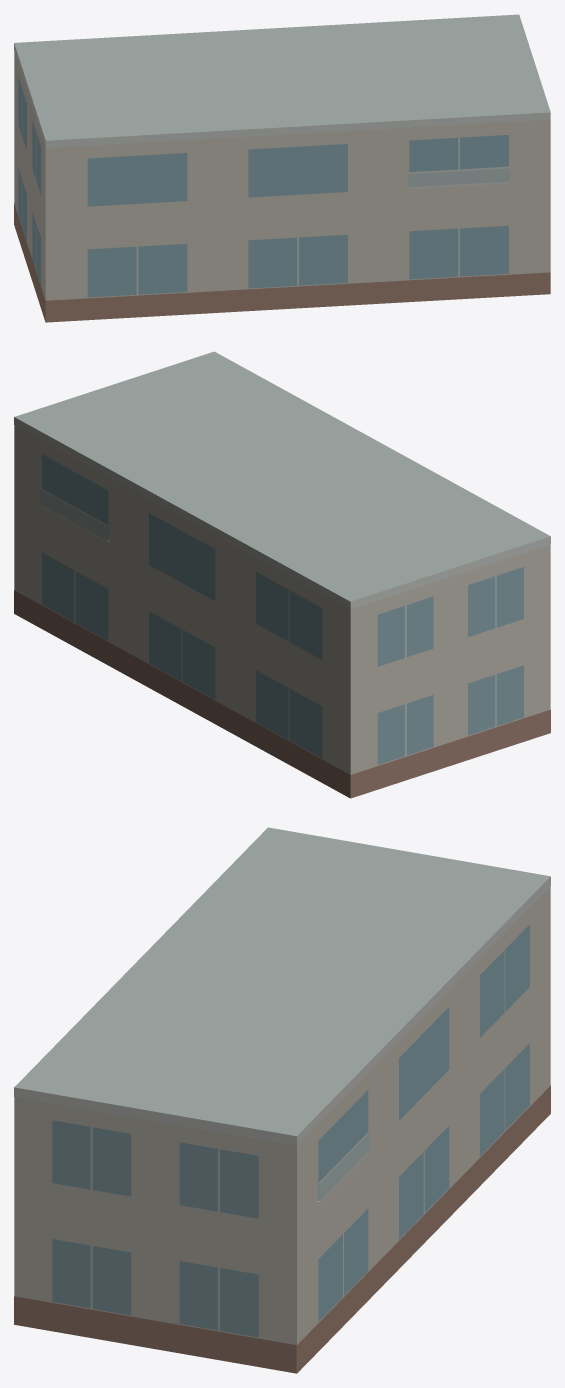
File: survey-upis-32720459.glb
3 renders of one model, top to bottom at view 1: azimuth 30°, elevation 25°; view 2: azimuth 150°, elevation 25°; view 3: azimuth 270°, elevation 25°, orthographic. The views are drawn at different scales.
Visible parts, largest first — view 1: survey-upis-32720459.tmp; view 2: survey-upis-32720459.tmp; view 3: survey-upis-32720459.tmp.
Boxes of the visible parts, x1=… form: survey-upis-32720459.tmp: x1=14, y1=14, x2=550, y2=322; survey-upis-32720459.tmp: x1=14, y1=351, x2=550, y2=798; survey-upis-32720459.tmp: x1=14, y1=827, x2=550, y2=1373.
Bounding box in the file's own units: 17.04 × 6.1 × 12.51.
